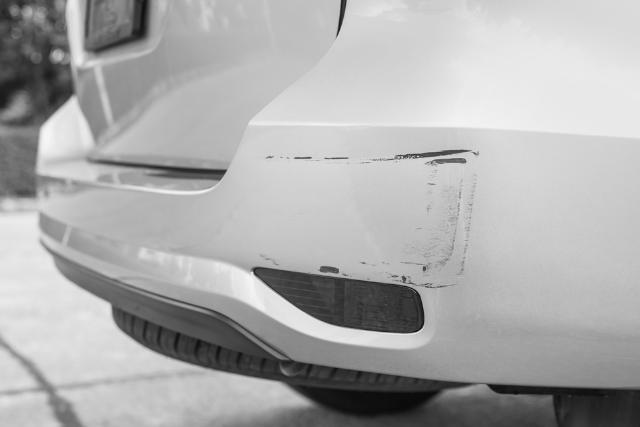Bumper: (182, 124, 640, 407)
